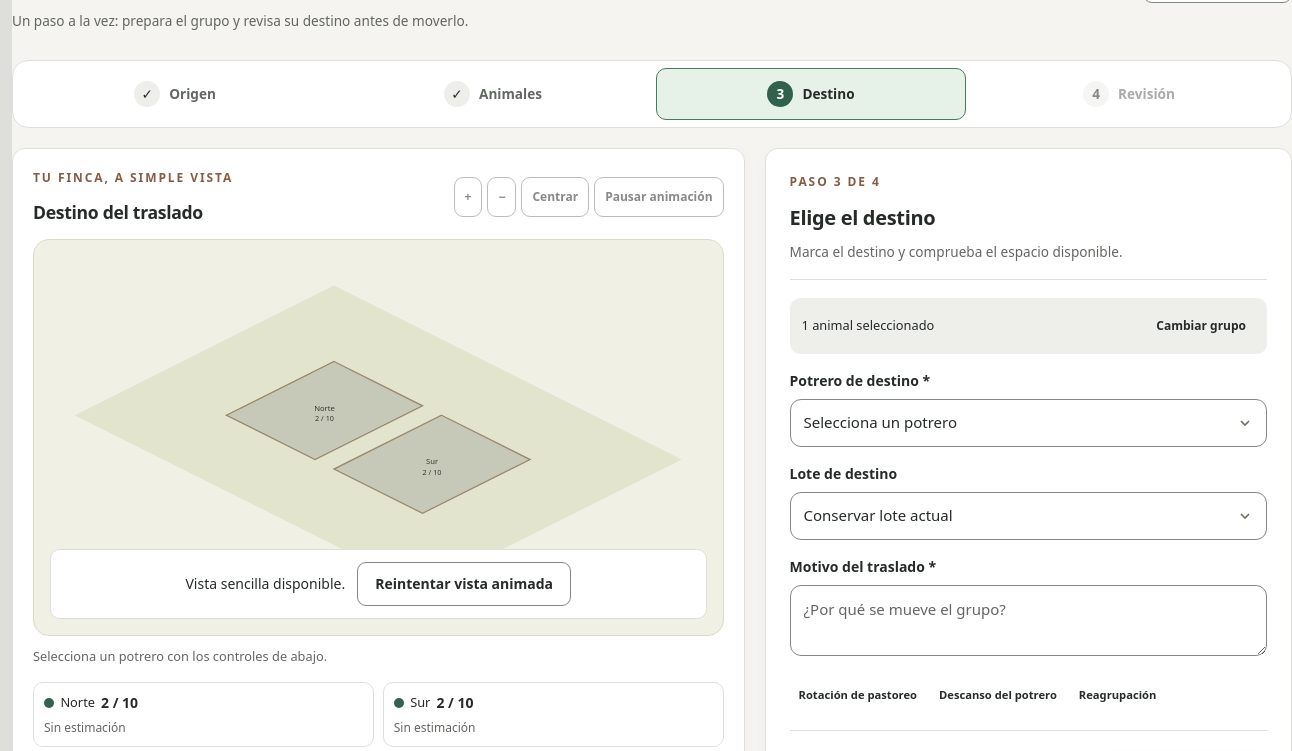
Test: preselects only an individually linked animal and lets the operator revise its group
(page scrolled)
Expected: the heading "Elige el destino" is shown, [790,204,935,231]
Click the button "Cambiar grupo".
click(1201, 326)  # box [1147,308,1255,344]
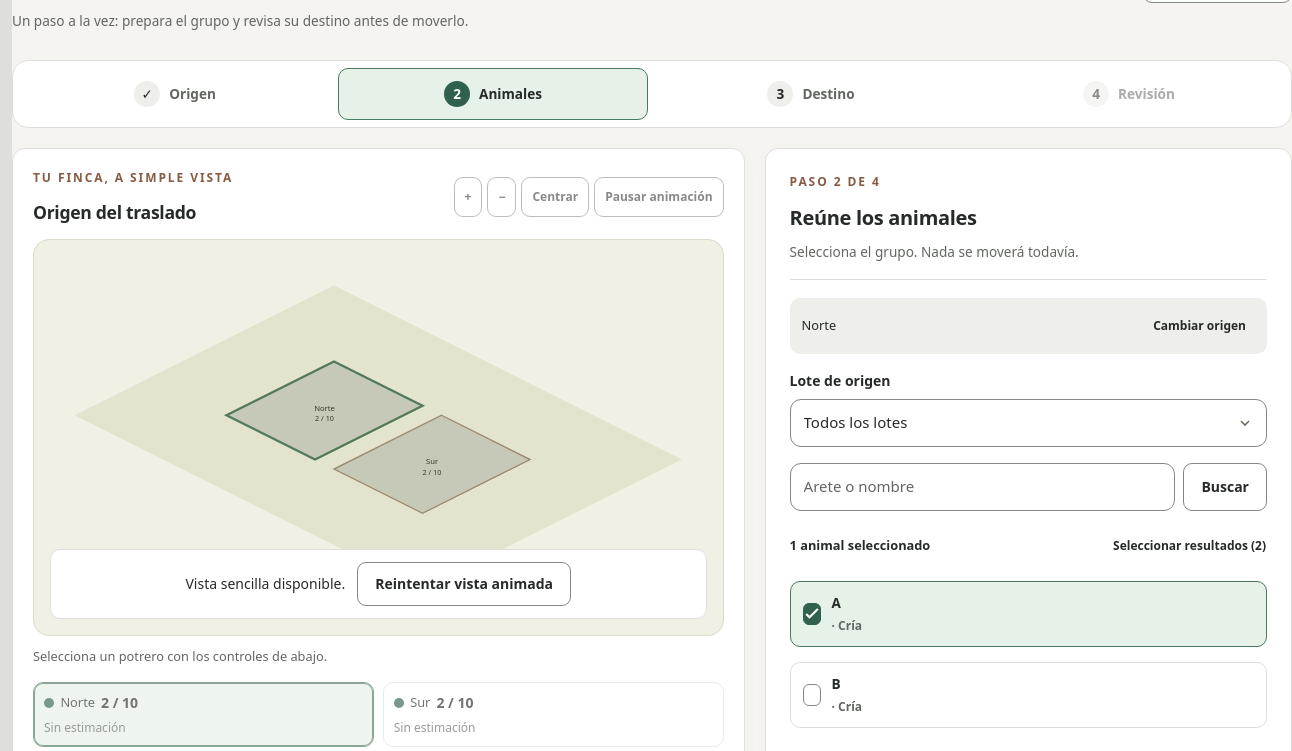
Expected: the checkbox named "Seleccionar A" is checked, [802,603,820,625]
Expected: the checkbox named "Seleccionar B" is not checked, [802,684,820,706]
